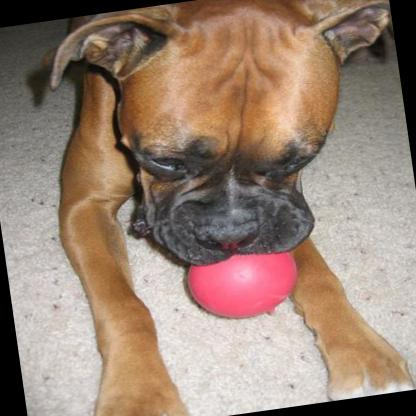boxer: (23, 0, 416, 416)
